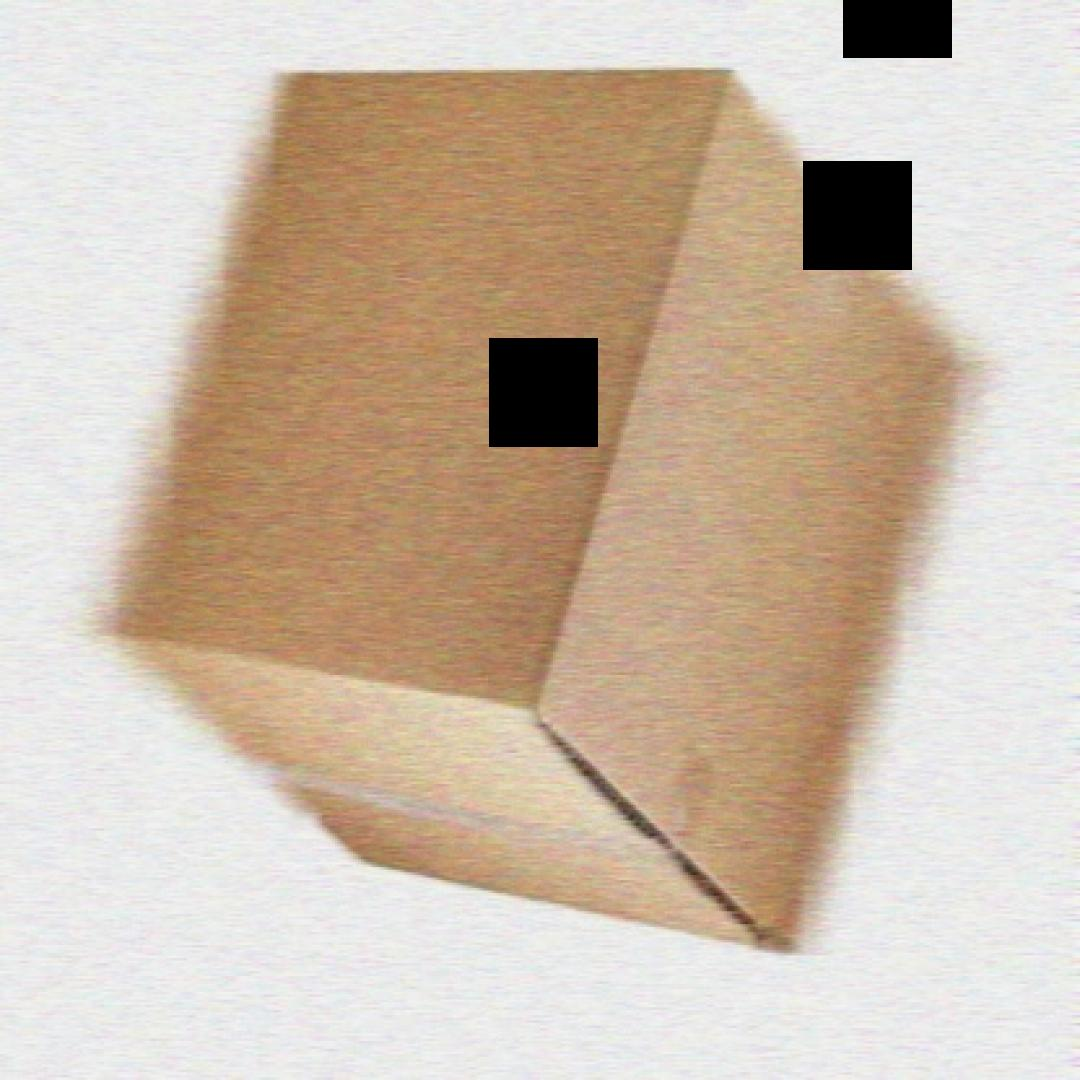package: (106, 73, 979, 960)
